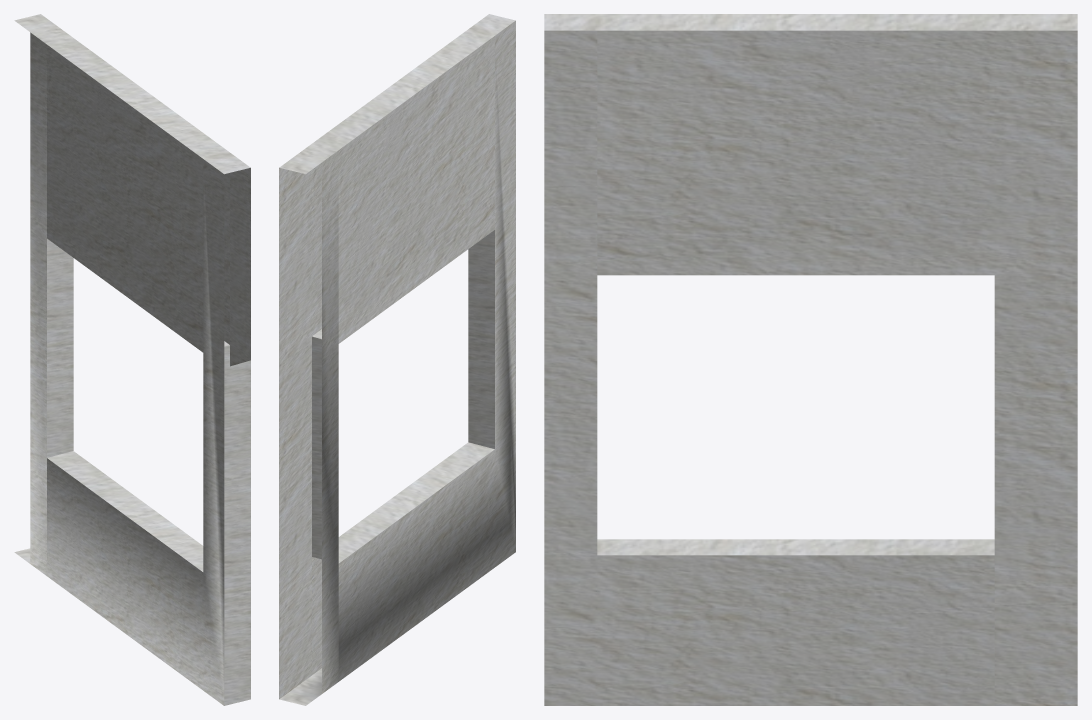
Rendered from wall_05.obj.
3 renders of one model, left to right at view 1: azimuth 30°, elevation 25°; view 2: azimuth 150°, elevation 25°; view 3: azimuth 270°, elevation 25°, orthographic. The views are drawn at different scales.
Parts seen in each view (by area): view 1: Cube.001; view 2: Cube.001; view 3: Cube.001.
Part boxes in pixels (x1,y1,x2,y2): Cube.001: (14,14,250,705); Cube.001: (279,14,515,705); Cube.001: (544,14,1077,705).
Size of the model in its own units: 0.2693 by 5.13 by 3.67.
Materials: 1 (1 with a texture image).
